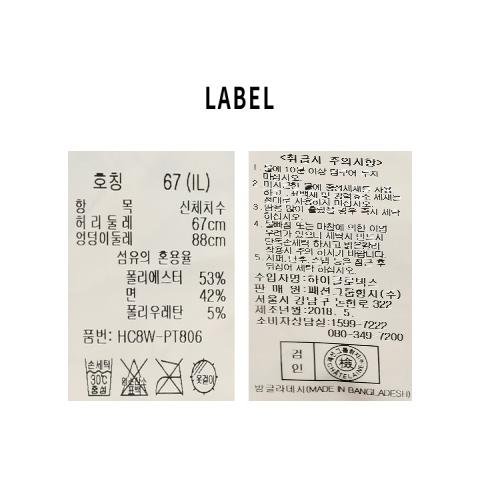DN_bleach: (120, 355, 151, 399)
DN_iron: (155, 355, 185, 400)
hand_wash: (82, 353, 115, 399)
line_dry_in_shade: (190, 356, 221, 397)
